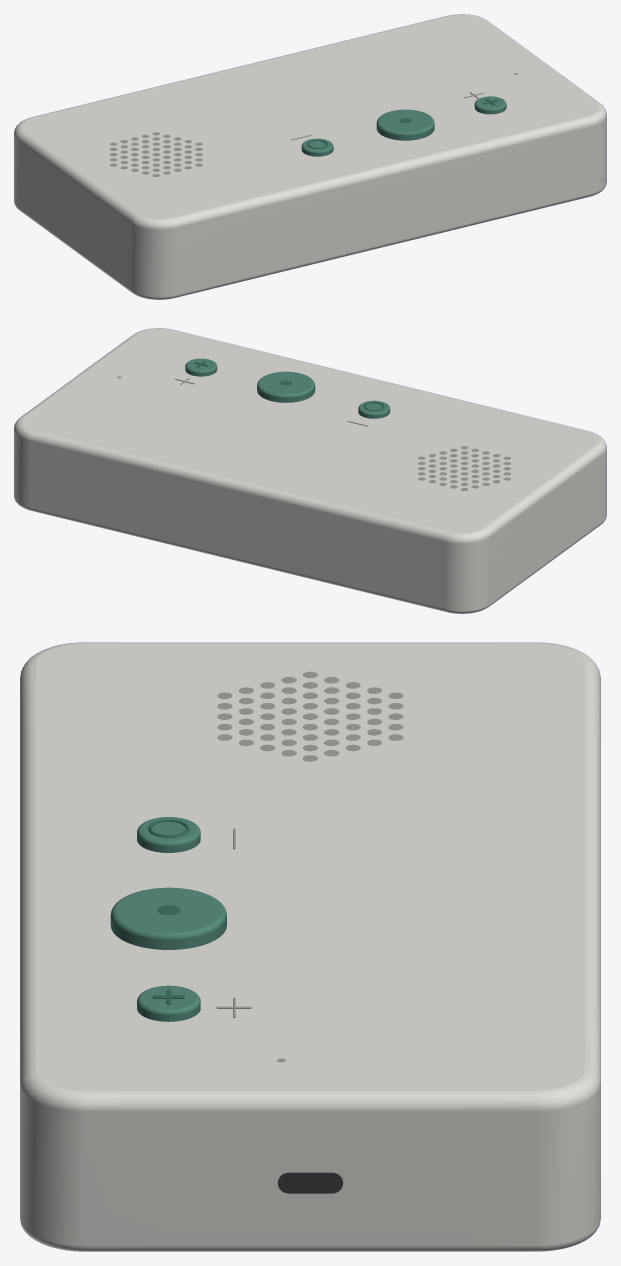
Rendered from speaker.glb.
3 renders of one model, top to bottom at view 1: azimuth 30°, elevation 25°; view 2: azimuth 150°, elevation 25°; view 3: azimuth 270°, elevation 25°, orthographic. The views are drawn at different scales.
Visible parts, largest first — view 1: Body, GrilleHoles, MainButton, PlusButton, MinusButton; view 2: Body, GrilleHoles, MainButton, PlusButton, MinusButton; view 3: Body, MainButton, GrilleHoles, PlusButton, MinusButton, USB_C.
Boxes of the visible parts, x1=… form: Body: x1=14, y1=14, x2=606, y2=299; GrilleHoles: x1=110, y1=132, x2=202, y2=176; MainButton: x1=376, y1=109, x2=434, y2=140; PlusButton: x1=474, y1=96, x2=506, y2=114; MinusButton: x1=301, y1=138, x2=333, y2=156; Body: x1=14, y1=328, x2=606, y2=613; GrilleHoles: x1=418, y1=446, x2=510, y2=490; MainButton: x1=257, y1=371, x2=315, y2=402; PlusButton: x1=185, y1=358, x2=217, y2=376; MinusButton: x1=358, y1=400, x2=390, y2=418; Body: x1=20, y1=642, x2=600, y2=1251; MainButton: x1=110, y1=887, x2=226, y2=949; GrilleHoles: x1=217, y1=671, x2=403, y2=761; PlusButton: x1=137, y1=985, x2=200, y2=1021; MinusButton: x1=137, y1=817, x2=200, y2=852; USB_C: x1=277, y1=1172, x2=343, y2=1193.
Bounding box in the file's own units: 0.1501 × 0.0275 × 0.08.
